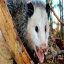opossum: (5, 1, 51, 63)
